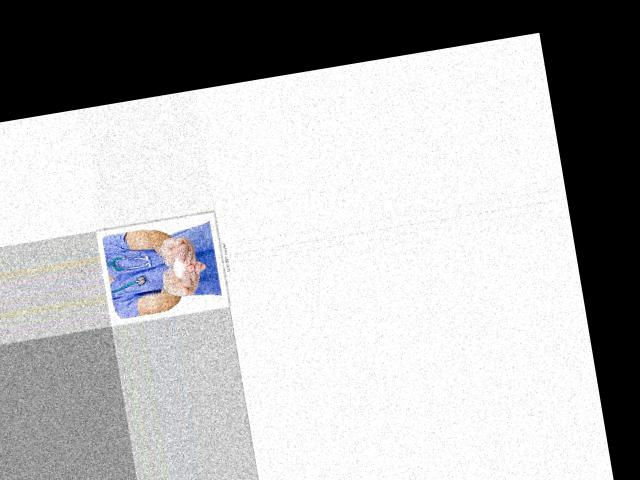egg: (171, 255, 189, 278)
